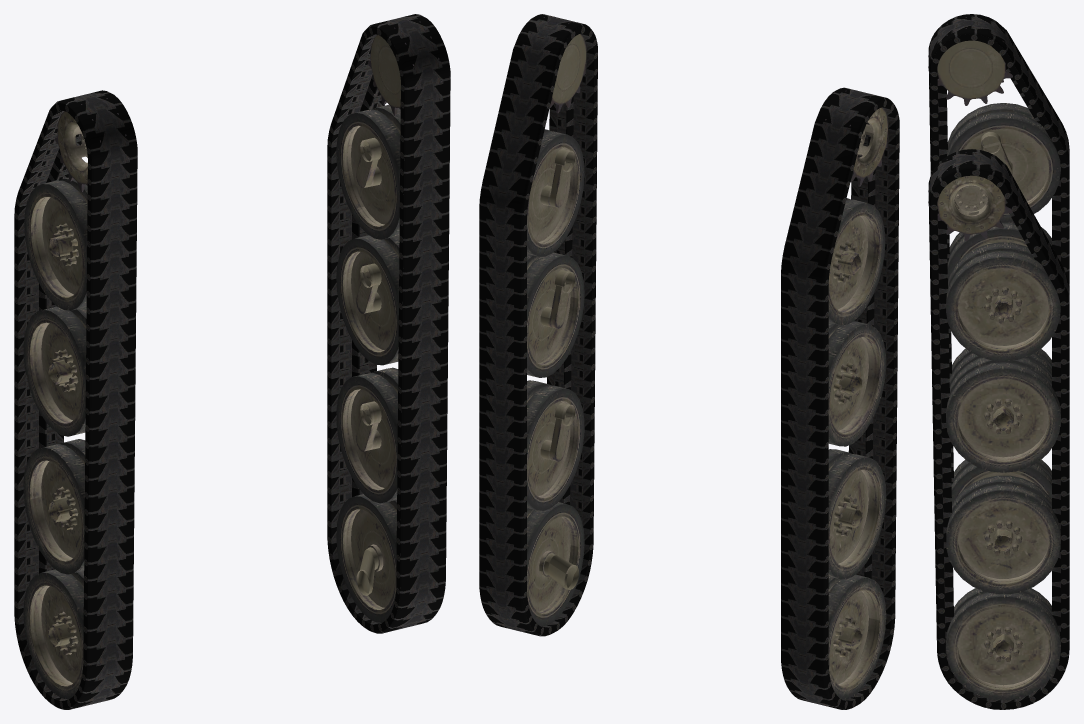
File: Chassis.glb
The picture shows the model from 3 angles, left to right: view 1: azimuth 30°, elevation 25°; view 2: azimuth 150°, elevation 25°; view 3: azimuth 270°, elevation 25°; orthographic projection. The views are drawn at different scales.
Parts seen in each view (by area): view 1: set_1_group_0, set_0_group_0, set_3_group_0, set_2_group_0; view 2: set_1_group_0, set_0_group_0, set_2_group_0, set_3_group_0; view 3: set_3_group_0, set_0_group_0, set_2_group_0, set_1_group_0.
Part boxes in pixels (x1,y1,x2,y2): set_1_group_0: (14, 90, 137, 709); set_0_group_0: (327, 14, 450, 633); set_3_group_0: (336, 21, 441, 622); set_2_group_0: (23, 98, 128, 699); set_1_group_0: (781, 87, 899, 709); set_0_group_0: (479, 14, 597, 636); set_2_group_0: (825, 90, 887, 699); set_3_group_0: (523, 17, 586, 626); set_3_group_0: (928, 152, 1060, 700); set_0_group_0: (928, 149, 1069, 709); set_2_group_0: (928, 17, 1060, 504); set_1_group_0: (928, 14, 1069, 483).
Size of the model in its own units: 2.79 by 4.56 by 1.07.
4 materials, 4 textured.
